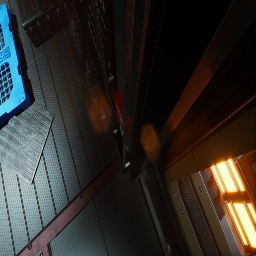FireAlarm ,: (115, 88, 130, 136)
